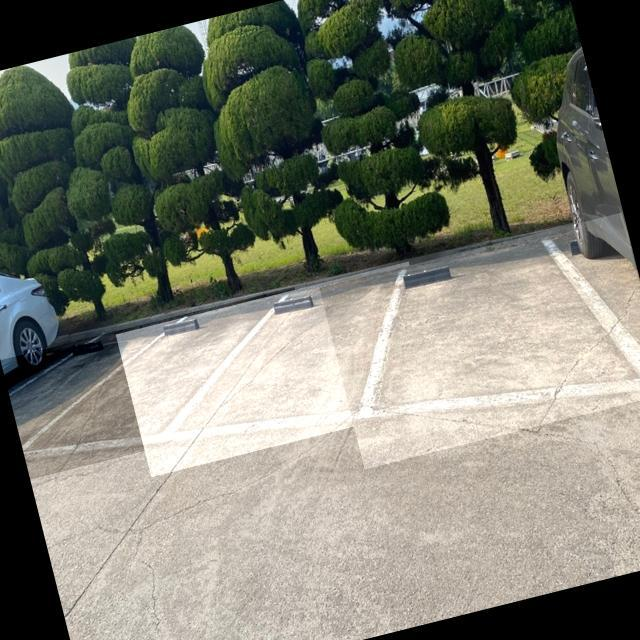empty: (354, 235, 640, 428), (145, 265, 410, 450), (20, 293, 296, 463)
